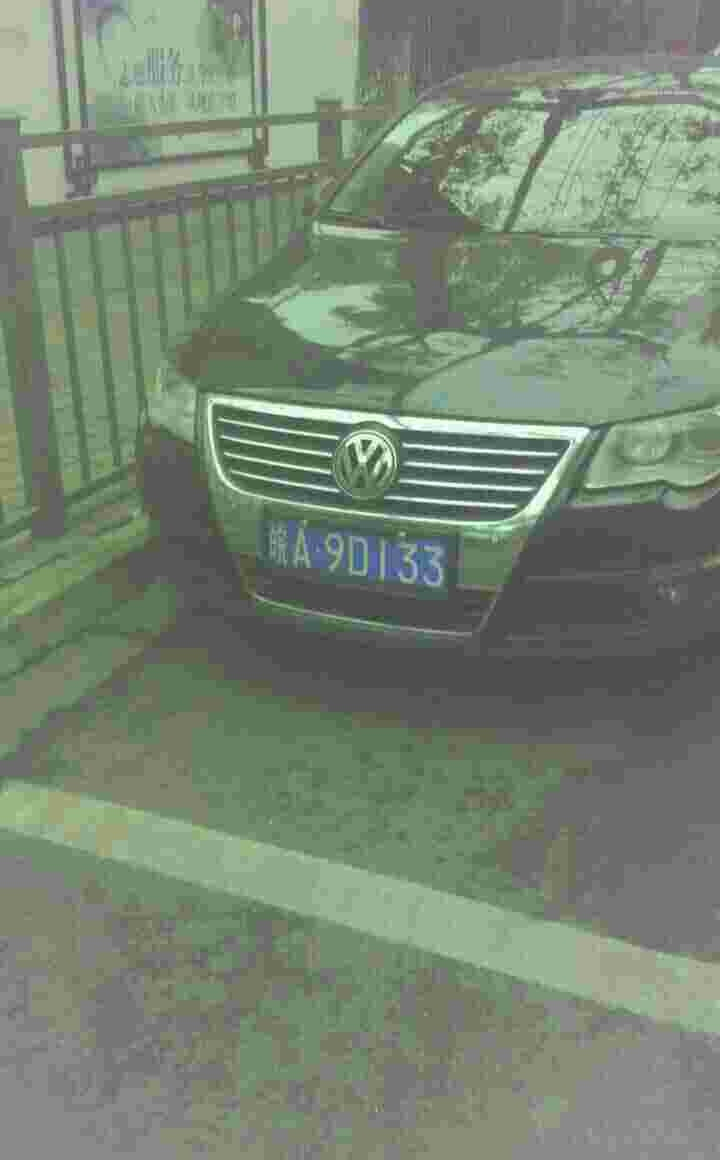license_plate: (270, 525, 446, 587)
